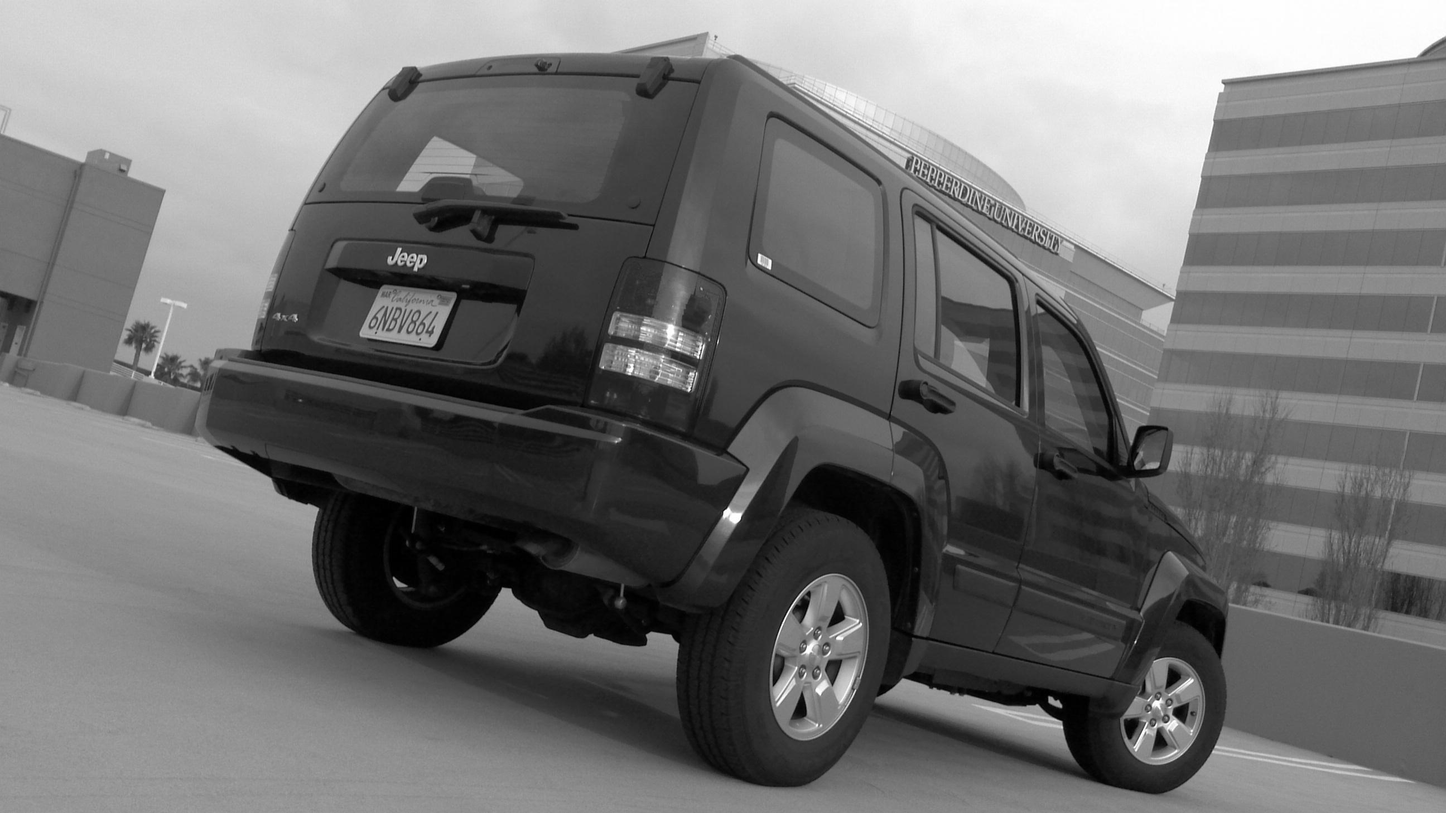car: (195, 49, 1234, 797)
